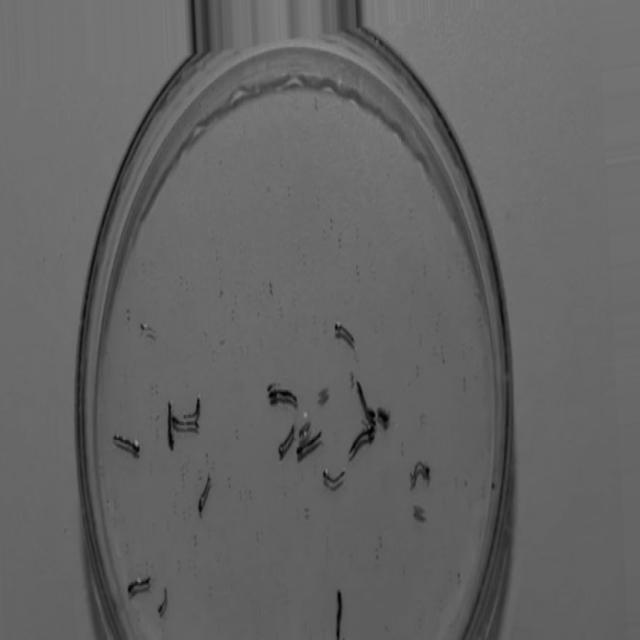larvas: (346, 424, 374, 456), (357, 382, 375, 420), (297, 432, 322, 458), (277, 424, 295, 457), (198, 470, 212, 510), (334, 324, 355, 346), (114, 434, 139, 452), (268, 390, 296, 405), (412, 461, 430, 484), (166, 404, 175, 448), (174, 415, 199, 430), (335, 592, 343, 638), (127, 578, 150, 594), (186, 396, 200, 420), (321, 471, 345, 484), (157, 587, 168, 613), (141, 322, 156, 333)
